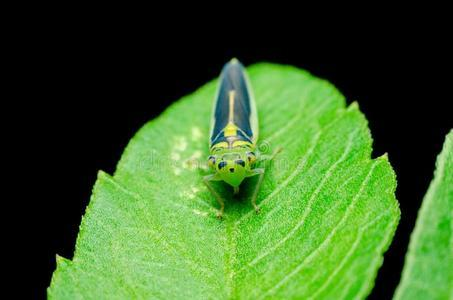Cicadellidae: (205, 55, 266, 217)
